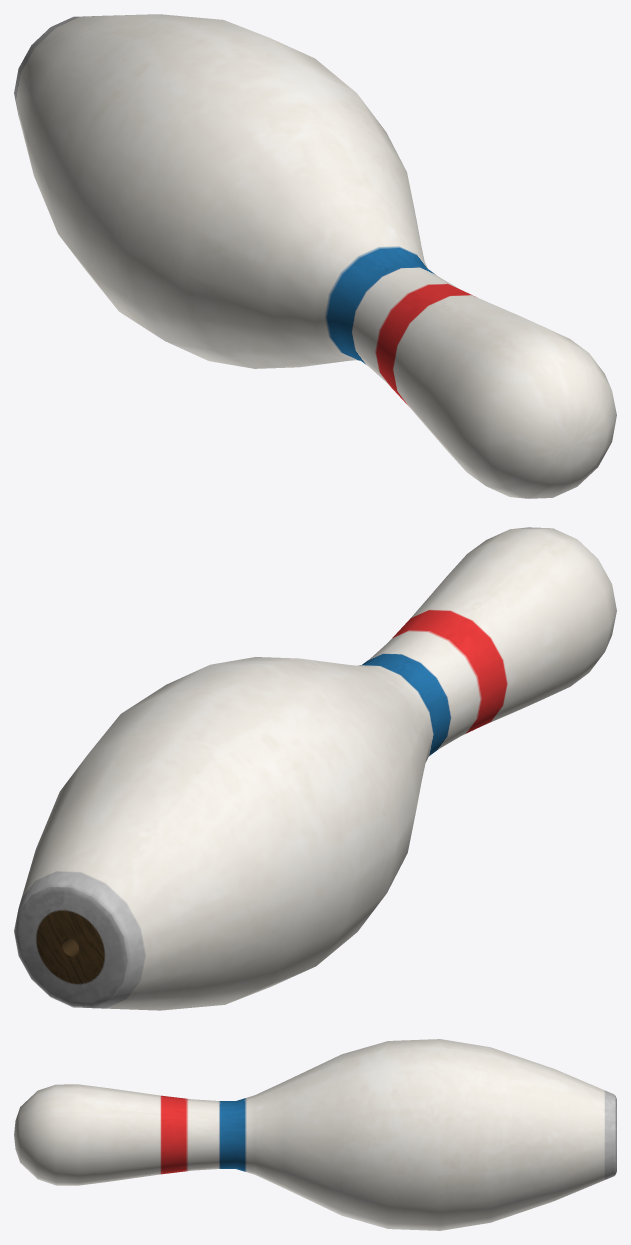
Rendered from low-poly-bowling-pins--individual-cc17ce.glb.
3 renders of one model, top to bottom at view 1: azimuth 30°, elevation 25°; view 2: azimuth 150°, elevation 25°; view 3: azimuth 270°, elevation 25°, orthographic. The views are drawn at different scales.
Parts seen in each view (by area): view 1: PropMesh; view 2: PropMesh; view 3: PropMesh.
Part boxes in pixels (x1,y1,x2,y2): PropMesh: (14,14,616,498); PropMesh: (14,527,616,1010); PropMesh: (14,1039,616,1230).
Size of the model in its own units: 2.2 by 2.2 by 6.91.
3 materials, 3 textured.
